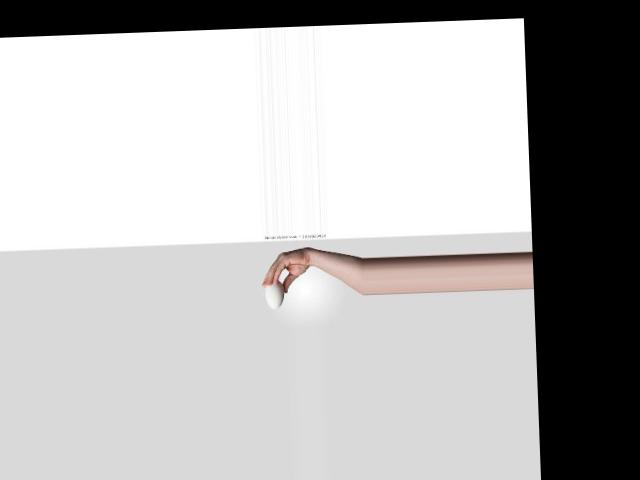egg: (264, 279, 285, 309)
